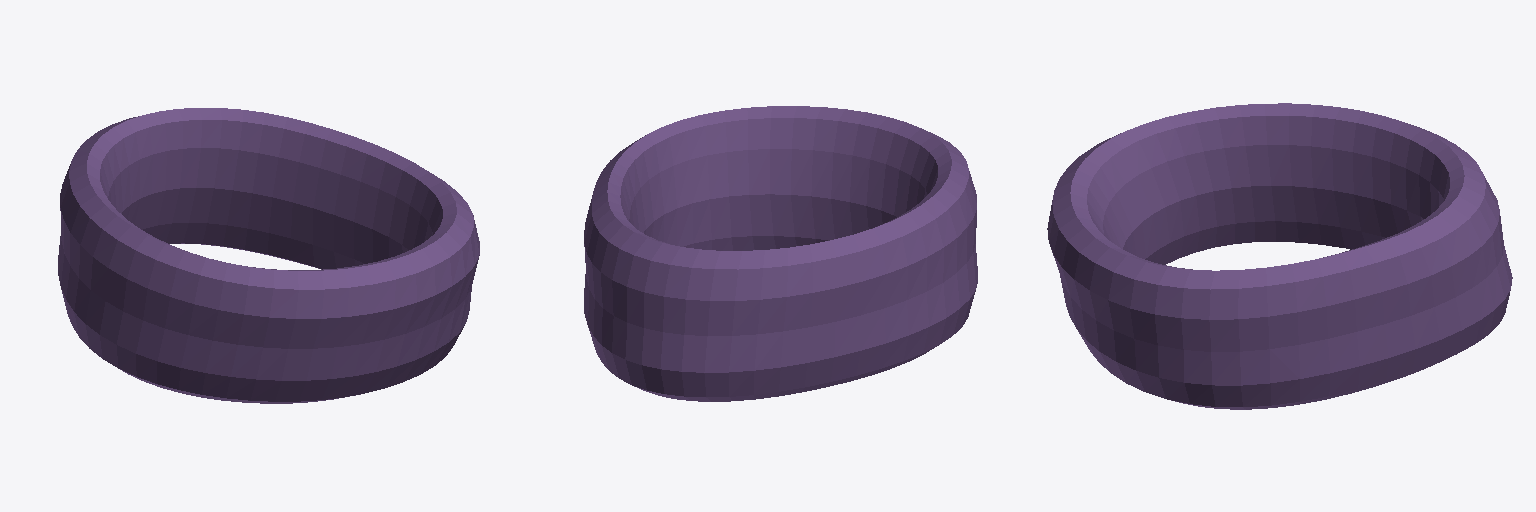
The model's file is armband.obj.
The picture shows the model from 3 angles: view 1: azimuth 30°, elevation 25°; view 2: azimuth 150°, elevation 25°; view 3: azimuth 270°, elevation 25°; orthographic projection.
Parts seen in each view (by area): view 1: vn_commander_uniform_armband; view 2: vn_commander_uniform_armband; view 3: vn_commander_uniform_armband.
Part boxes in pixels (bbox=[...]): vn_commander_uniform_armband: bbox=[58, 108, 479, 403]; vn_commander_uniform_armband: bbox=[584, 106, 977, 401]; vn_commander_uniform_armband: bbox=[1047, 103, 1512, 409].
Bounding box in the file's own units: 5.73 × 2.6 × 6.61.